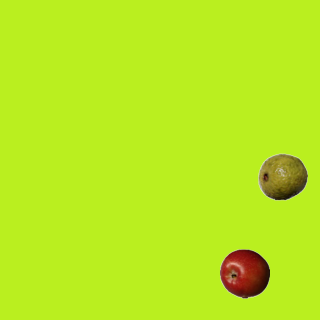Apple Braeburn: (219, 248, 269, 298)
Guava: (257, 151, 307, 201)
